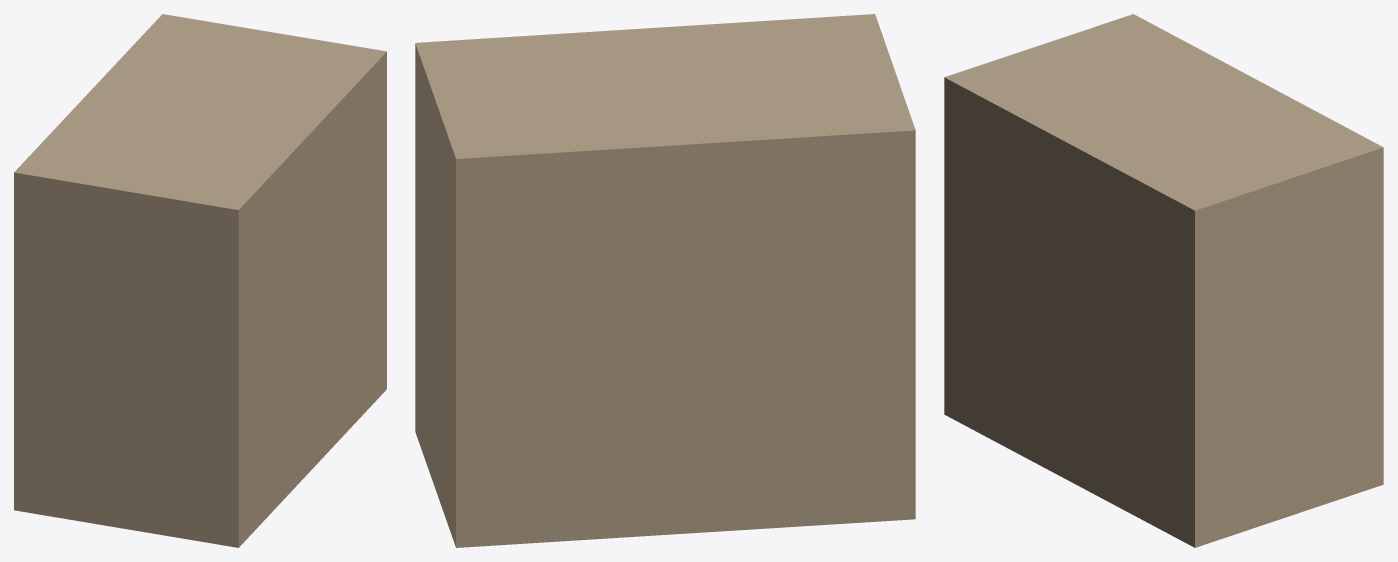
Rendered from bld_158045211.dae.
The picture shows the model from 3 angles, left to right: view 1: azimuth 30°, elevation 25°; view 2: azimuth 150°, elevation 25°; view 3: azimuth 270°, elevation 25°; orthographic projection. The views are drawn at different scales.
Visible parts, largest first — view 1: bld_158045211; view 2: bld_158045211; view 3: bld_158045211.
Part boxes in pixels (x1,y1,x2,y2): bld_158045211: (14, 14, 386, 547); bld_158045211: (415, 14, 915, 547); bld_158045211: (944, 14, 1383, 547).
Bounding box in the file's own units: 10.01 × 9.45 × 8.
